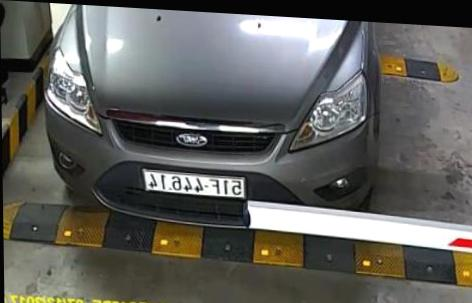License_Plate: (139, 164, 250, 202)
